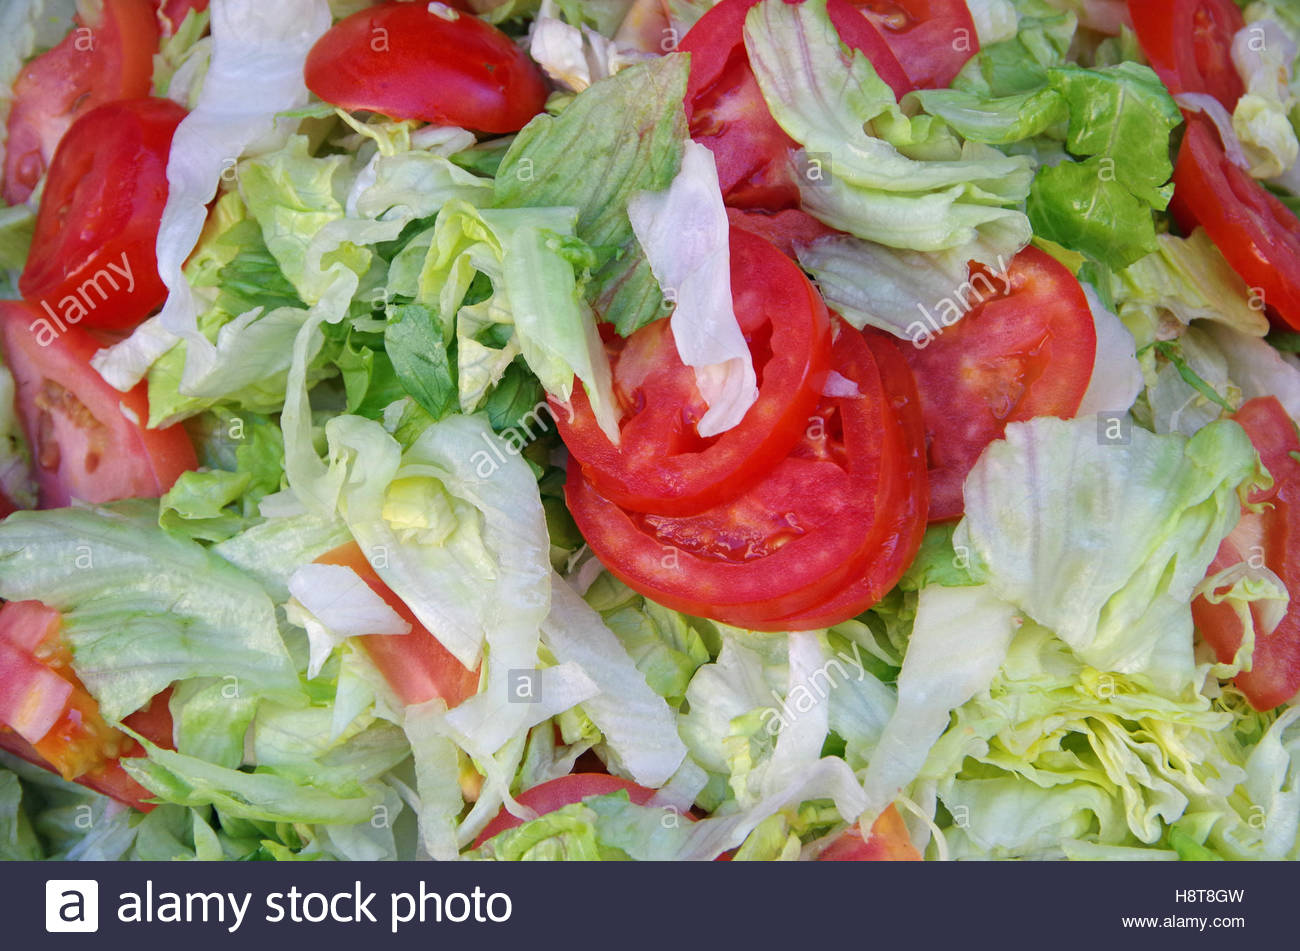chopped lettuce: (175, 186, 588, 852), (658, 584, 1237, 833)
